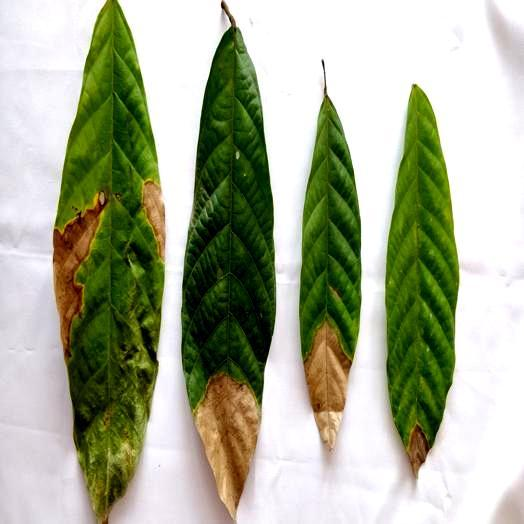Potassium: (53, 0, 164, 523), (181, 3, 275, 518), (386, 85, 458, 475), (299, 62, 361, 449)
